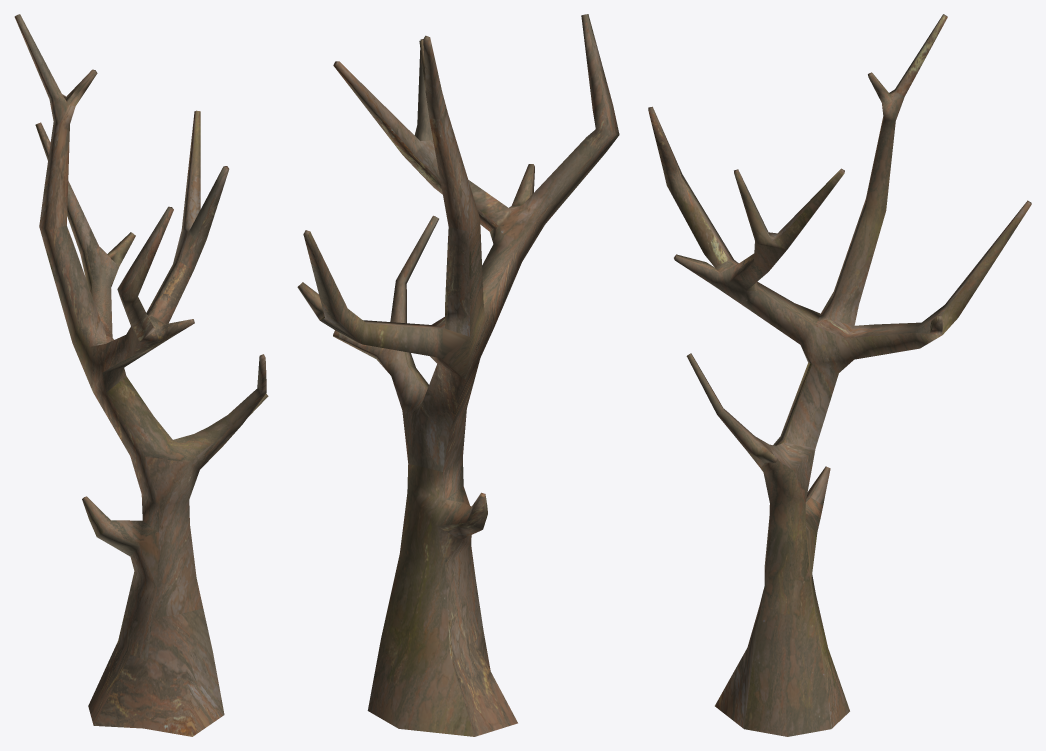
File: 장애물_나무기둥.fbx
3 views of the same model, side by side, from view 1: azimuth 30°, elevation 25°; view 2: azimuth 150°, elevation 25°; view 3: azimuth 270°, elevation 25° (orthographic). The views are drawn at different scales.
Parts seen in each view (by area): view 1: 나무; view 2: 나무; view 3: 나무.
Part boxes in pixels (x1=…): 나무: x1=14, y1=14, x2=268, y2=736; 나무: x1=297, y1=14, x2=619, y2=736; 나무: x1=648, y1=14, x2=1031, y2=736.
Size of the model in its own units: 394 by 1255 by 659.
